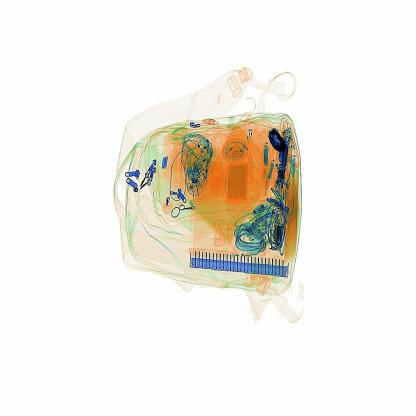scissors: (259, 124, 289, 164)
